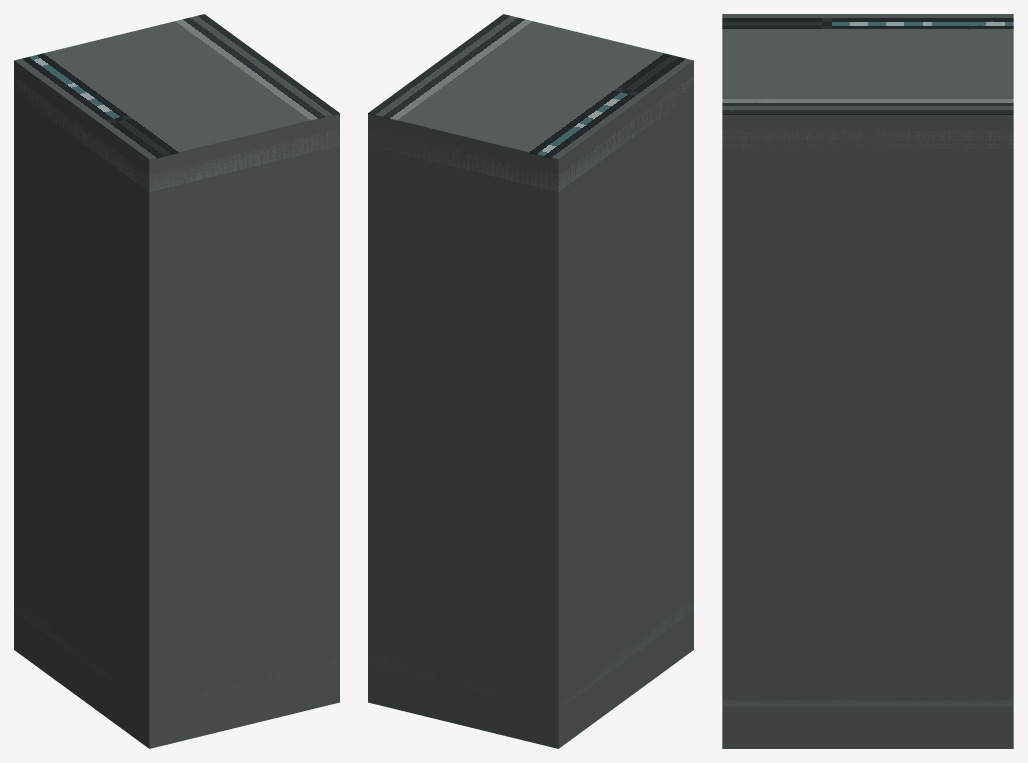
The model's file is CMU3DInteriorVehicleAPCFront2.glb.
3 renders of one model, left to right at view 1: azimuth 30°, elevation 25°; view 2: azimuth 150°, elevation 25°; view 3: azimuth 270°, elevation 25°, orthographic. The views are drawn at different scales.
Parts seen in each view (by area): view 1: cabin bulkhead, cabin bulkhead source finish, upper armor trim, lower armor trim; view 2: cabin bulkhead, cabin bulkhead source finish, upper armor trim, lower armor trim; view 3: cabin bulkhead, cabin bulkhead source finish, lower armor trim, upper armor trim.
Boxes of the visible parts, left/top/right/bottom form: cabin bulkhead: left=14, top=61, right=339, bottom=748; cabin bulkhead source finish: left=14, top=14, right=339, bottom=160; upper armor trim: left=14, top=76, right=339, bottom=191; lower armor trim: left=14, top=599, right=339, bottom=709; cabin bulkhead: left=368, top=61, right=693, bottom=748; cabin bulkhead source finish: left=368, top=14, right=693, bottom=160; upper armor trim: left=368, top=76, right=693, bottom=191; lower armor trim: left=368, top=598, right=693, bottom=709; cabin bulkhead: left=722, top=115, right=1013, bottom=748; cabin bulkhead source finish: left=722, top=14, right=1013, bottom=114; lower armor trim: left=722, top=699, right=1013, bottom=706; upper armor trim: left=723, top=130, right=1013, bottom=149.
Bounding box in the file's own units: 0.8125 × 2.4 × 1.
Materials: 4 (1 with a texture image).
